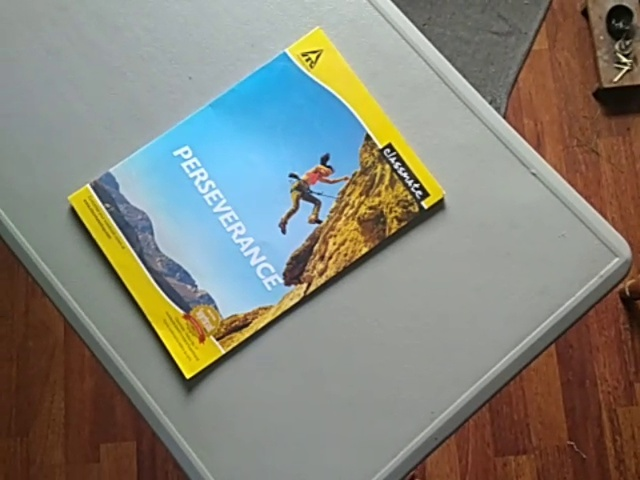Book: (64, 17, 455, 394)
